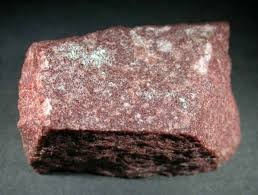obstacle: (18, 22, 239, 175)
